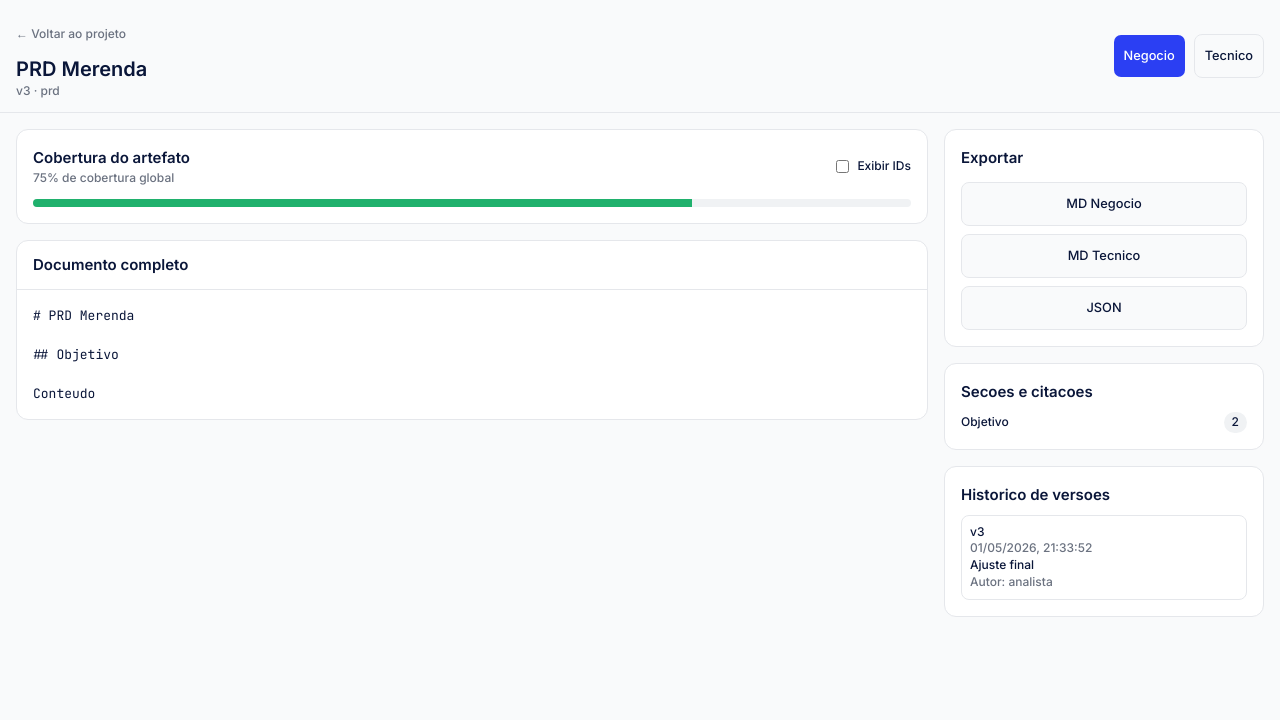
Scenario: ArtifactPage › shows feedback when export fails
Check: the heading "PRD Merenda" is shown, box x1=16 y1=56 x2=147 y2=83
Click the button "JSON" at (1104, 308), box x1=961 y1=286 x2=1247 y2=330
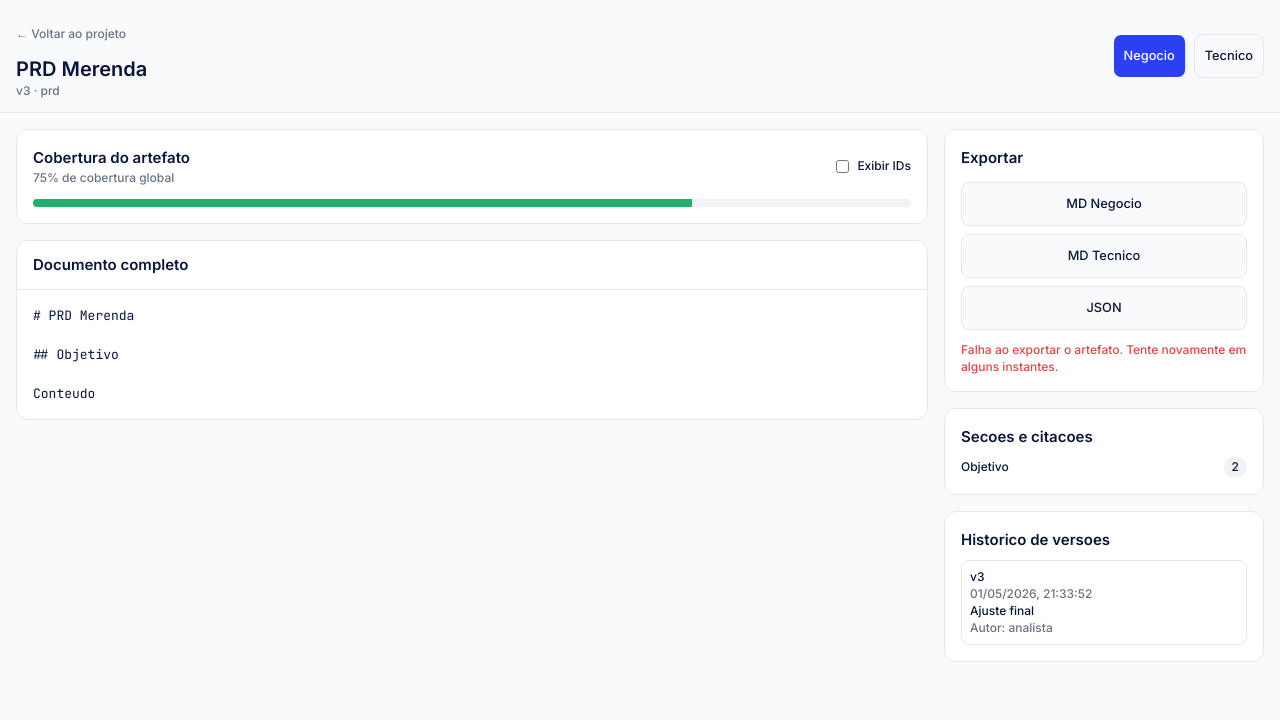
Check: the message reads "Falha ao exportar o artefato. Tente novamente em alguns instantes.", box x1=961 y1=342 x2=1246 y2=374
